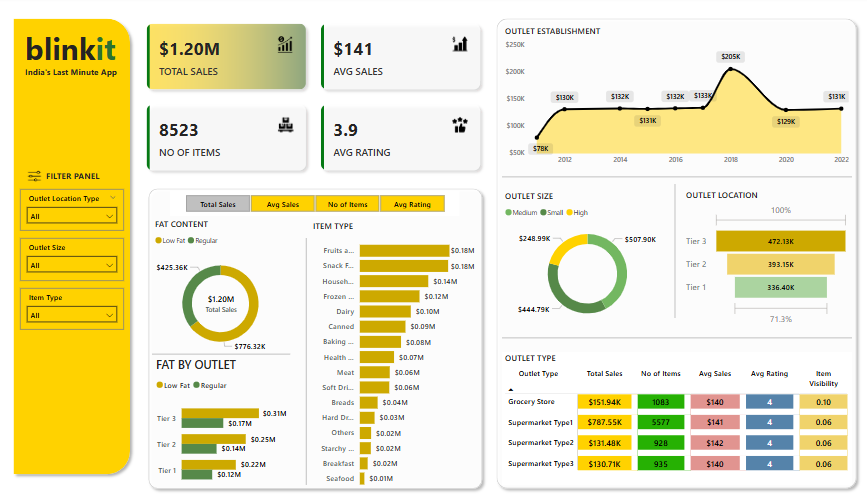

What the dashboard file says about the page in this screenshot:
{"tool":"powerbi","page":{"name":"Page 1","canvas":[1400,800],"ordinal":0},"visuals":[{"type":"shape","box":[16.1,27.3,205,750],"z":0},{"type":"textbox","box":[38.6,46.6,167.1,77.1],"z":1000},{"type":"textbox","box":[38.6,107.6,167.1,32.1],"z":2000},{"type":"cardVisual","fields":{"Data":["BlinkIT Grocery Data.Total Sales","BlinkIT Grocery Data.Avg Sales","BlinkIT Grocery Data.No of Items","BlinkIT Grocery Data.Avg Rating"]},"box":[221.5,27.7,570.8,270.8],"z":3000},{"type":"shape","box":[232.3,300,553.8,500],"z":4000},{"type":"donutChart","title":"FAT CONTENT","fields":{"Y":["BlinkIT Grocery Data.Total Sales"],"Category":["BlinkIT Grocery Data.Item Fat Content"]},"box":[247.7,356.9,220,230.8],"z":5000},{"type":"slicer","fields":{"Values":["Metrics.Metrics"]},"box":[276.9,313.8,464.6,40],"z":6000},{"type":"cardVisual","fields":{"Data":["BlinkIT Grocery Data.Total Sales"]},"box":[307.7,461.5,100,53.8],"z":7000},{"type":"clusteredBarChart","title":"FAT BY OUTLET","fields":{"Y":["BlinkIT Grocery Data.Total Sales"],"Category":["BlinkIT Grocery Data.Outlet Location Type"],"Series":["BlinkIT Grocery Data.Item Fat Content"]},"box":[249,579.9,220.1,220.1],"z":8000},{"type":"shape","box":[246.7,563.3,221.7,23.3],"z":9000},{"type":"shape","box":[480,388.3,30,396.7],"z":10000},{"type":"barChart","title":"ITEM TYPE","fields":{"Y":["BlinkIT Grocery Data.Total Sales"],"Category":["BlinkIT Grocery Data.Item Type"]},"box":[501.7,360,270,440],"z":11000},{"type":"shape","box":[792,27.3,596,772.7],"z":12000},{"type":"lineChart","title":"OUTLET ESTABLISHMENT","fields":{"Y":["BlinkIT Grocery Data.Total Sales"],"Category":["BlinkIT Grocery Data.Outlet Establishment Year"]},"box":[809.6,46.6,562.2,234.5],"z":13000},{"type":"shape","box":[809.6,279.5,562.2,22.5],"z":14000},{"type":"donutChart","title":"OUTLET SIZE","fields":{"Y":["BlinkIT Grocery Data.Total Sales"],"Category":["BlinkIT Grocery Data.Outlet Size"]},"box":[809.6,311.6,274.7,224.9],"z":15000},{"type":"shape","box":[1074.7,302,25.7,215.3],"z":16000},{"type":"funnel","title":"OUTLET LOCATION","fields":{"Y":["Sum(BlinkIT Grocery Data.Sales)"],"Category":["BlinkIT Grocery Data.Outlet Location Type"]},"box":[1100.4,310,271.5,224.9],"z":17000},{"type":"shape","box":[809.6,538.2,562.2,22.5],"z":18000},{"type":"pivotTable","title":"OUTLET TYPE","fields":{"Rows":["BlinkIT Grocery Data.Outlet Type"],"Values":["BlinkIT Grocery Data.Total Sales","BlinkIT Grocery Data.No of Items","BlinkIT Grocery Data.Avg Sales","BlinkIT Grocery Data.Avg Rating","Avg(BlinkIT Grocery Data.Item Visibility)"]},"box":[809.6,571.9,562.2,213.7],"z":19000},{"type":"slicer","fields":{"Values":["BlinkIT Grocery Data.Outlet Location Type"]},"box":[35.3,310,167.1,67.5],"z":20000},{"type":"slicer","fields":{"Values":["BlinkIT Grocery Data.Outlet Size"]},"box":[35.3,388.8,167.1,69.1],"z":21000},{"type":"slicer","fields":{"Values":["BlinkIT Grocery Data.Item Type"]},"box":[35.3,469.1,167.1,67.5],"z":22000},{"type":"textbox","box":[72.3,274.7,109.2,30.5],"z":23000},{"type":"image","box":[38.6,269.9,40.2,38.6],"z":24000}]}

Visuals, with their boxes in screenshot pixels (x1, y1, x2, y2), scaled from the page's 1400x800 canvas onto the 867x494 screenshot:
shape: 10 17 137 480
textbox: 24 29 127 76
textbox: 24 66 127 86
cardVisual - BlinkIT Grocery Data.Total Sales x BlinkIT Grocery Data.Avg Sales: 137 17 491 184
shape: 144 185 487 493
"FAT CONTENT" donutChart: 153 220 290 363
slicer - Metrics.Metrics: 171 194 459 218
cardVisual - BlinkIT Grocery Data.Total Sales: 191 285 252 318
"FAT BY OUTLET" clusteredBarChart: 154 358 291 493
shape: 153 348 290 362
shape: 297 240 316 485
"ITEM TYPE" barChart: 311 222 478 493
shape: 490 17 860 493
"OUTLET ESTABLISHMENT" lineChart: 501 29 850 174
shape: 501 173 850 186
"OUTLET SIZE" donutChart: 501 192 671 331
shape: 666 186 681 319
"OUTLET LOCATION" funnel: 681 191 850 330
shape: 501 332 850 346
"OUTLET TYPE" pivotTable: 501 353 850 485
slicer - BlinkIT Grocery Data.Outlet Location Type: 22 191 125 233
slicer - BlinkIT Grocery Data.Outlet Size: 22 240 125 283
slicer - BlinkIT Grocery Data.Item Type: 22 290 125 331
textbox: 45 170 112 188
image: 24 167 49 190
